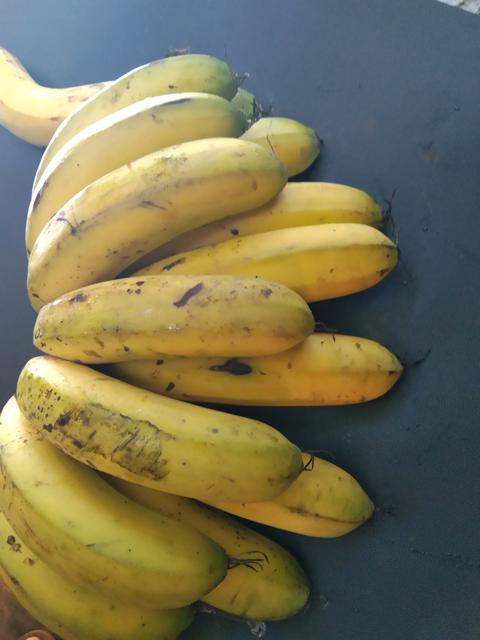ripe: (16, 363, 352, 510), (0, 92, 228, 293), (37, 143, 273, 322), (0, 431, 224, 594), (18, 280, 317, 377), (208, 216, 411, 305)
